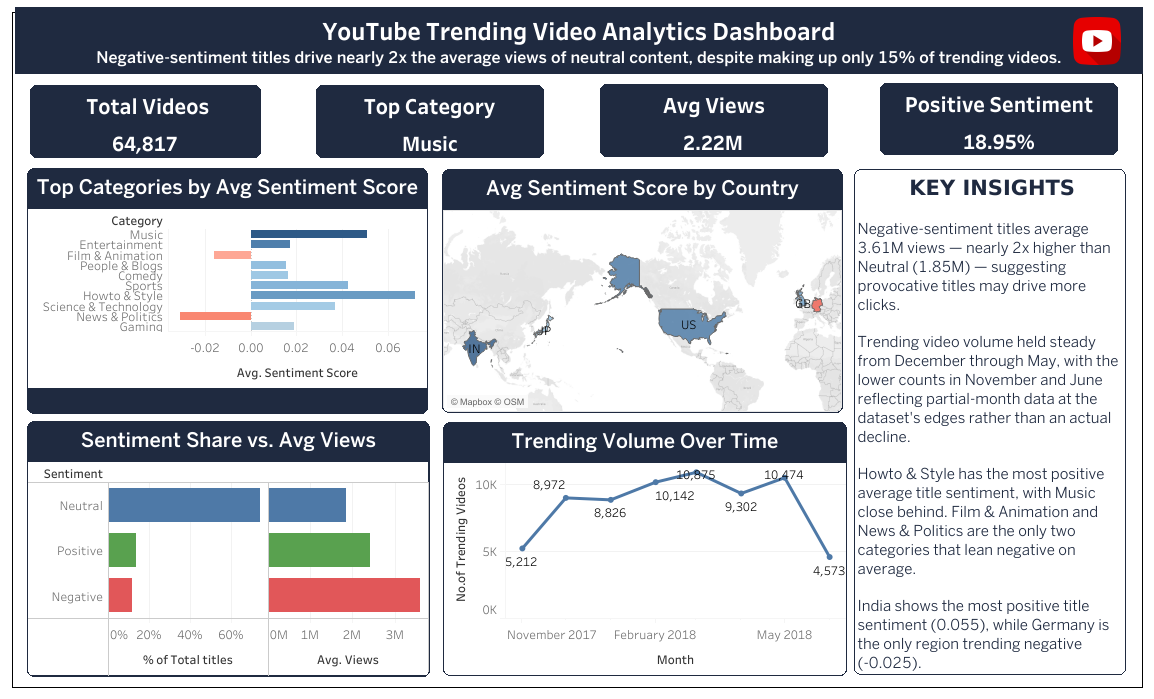

The dashboard page shown, as its layout file describes it:
{"tool":"tableau","page":{"name":"Dashboard 1","canvas":[1155,700],"ordinal":0},"visuals":[{"type":"text","box":[15,7,1128,67]},{"type":"blank","box":[8,8,1139,684]},{"type":"image","param":"C:/Users/ELCOT/Downloads/youtube (1).png","box":[1065,17,64,48]},{"type":"worksheet","title":"Positive Sentiment","mark":"Automatic","box":[880,83,238,72]},{"type":"worksheet","title":"Avg Views","mark":"Automatic","box":[600,84,228,73]},{"type":"worksheet","title":" Total Videos","mark":"Automatic","box":[30,85,231,73]},{"type":"worksheet","title":"Top Category","mark":"Automatic","box":[316,85,228,73]},{"type":"worksheet","title":"Top Categories by Avg Sentiment Score","mark":"Automatic","rows":["category_name"],"cols":["sentiment_score"],"box":[27,168,401,246]},{"type":"worksheet","title":"Avg Sentiment Score by Country","mark":"Multipolygon","box":[442,169,401,244]},{"type":"text","box":[854,169,272,506]},{"type":"worksheet","title":"Sentiment Share vs. Avg Views","mark":"Automatic","rows":["sentiment_label"],"cols":["Calculation_1325751738511360","views"],"box":[27,421,403,256]},{"type":"worksheet","title":"Trending Volume Over Time","mark":"Automatic","rows":["video_id"],"cols":["Calculation_1325751758598147"],"box":[443,422,404,254]}]}

Visuals, with their boxes in screenshot pixels (x1, y1, x2, y2), scaled from the page's 1155x700 canvas onto the 1154x699 screenshot:
text: <bbox>15, 7, 1142, 74</bbox>
blank: <bbox>8, 8, 1146, 691</bbox>
image: <bbox>1064, 17, 1128, 65</bbox>
"Positive Sentiment" worksheet: <bbox>879, 83, 1117, 155</bbox>
"Avg Views" worksheet: <bbox>599, 84, 827, 157</bbox>
" Total Videos" worksheet: <bbox>30, 85, 261, 158</bbox>
"Top Category" worksheet: <bbox>316, 85, 544, 158</bbox>
"Top Categories by Avg Sentiment Score" worksheet: <bbox>27, 168, 428, 413</bbox>
"Avg Sentiment Score by Country" worksheet (Multipolygon marks): <bbox>442, 169, 842, 412</bbox>
text: <bbox>853, 169, 1125, 674</bbox>
"Sentiment Share vs. Avg Views" worksheet: <bbox>27, 420, 430, 676</bbox>
"Trending Volume Over Time" worksheet: <bbox>443, 421, 846, 675</bbox>
